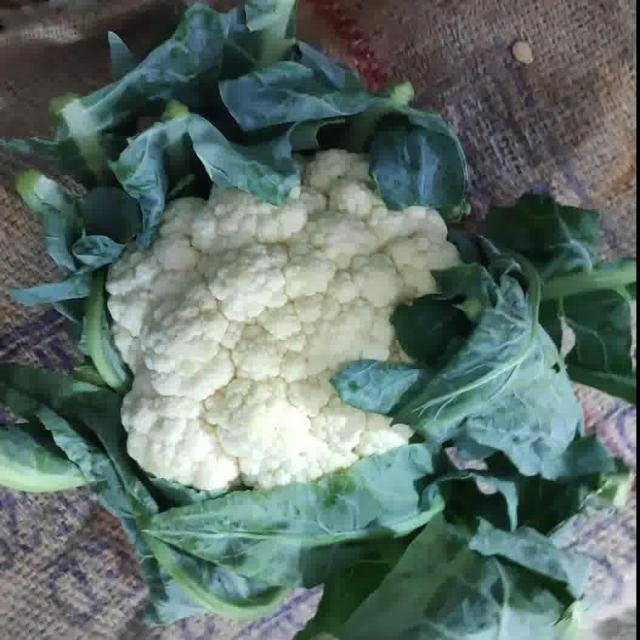Cauliflower: (92, 145, 469, 492)
